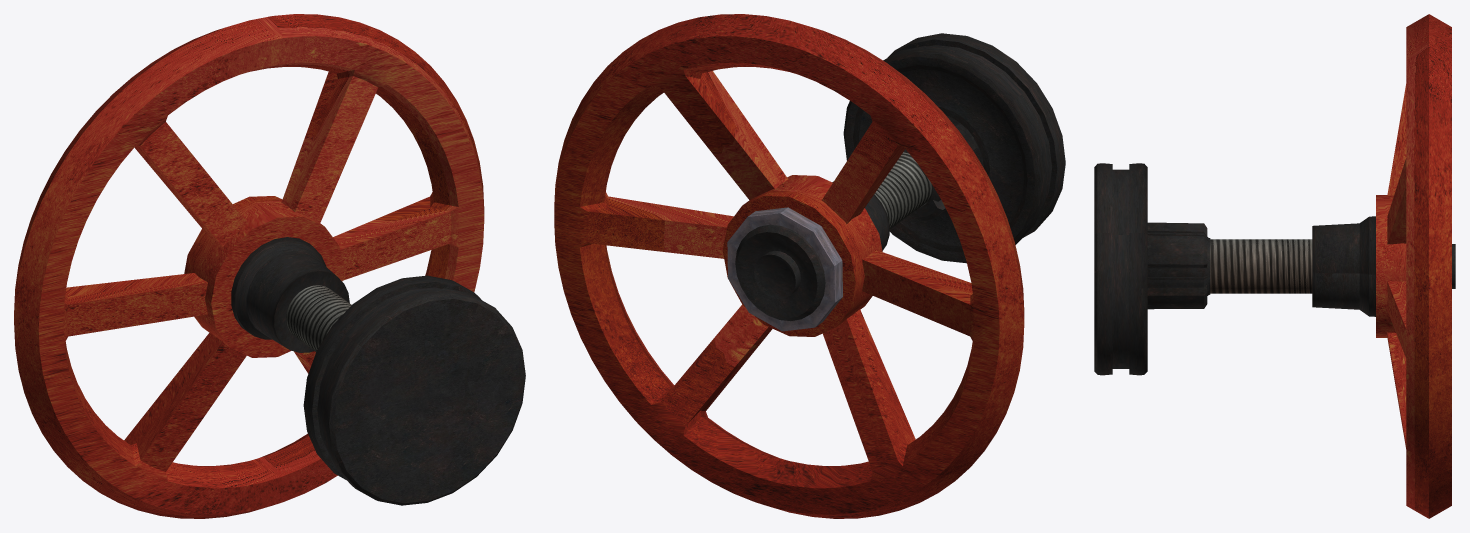
The model's file is industrial_valve.glb.
3 views of the same model, side by side, from view 1: azimuth 30°, elevation 25°; view 2: azimuth 150°, elevation 25°; view 3: azimuth 270°, elevation 25° (orthographic). The views are drawn at different scales.
Parts seen in each view (by area): view 1: Torus001; view 2: Torus001; view 3: Torus001.
Boxes of the visible parts, x1,y1,x2,y2 form: Torus001: [14, 14, 525, 518]; Torus001: [554, 14, 1065, 518]; Torus001: [1094, 14, 1455, 518].
Size of the model in its own units: 170 by 170 by 121.
Materials: 5 (5 with a texture image).
